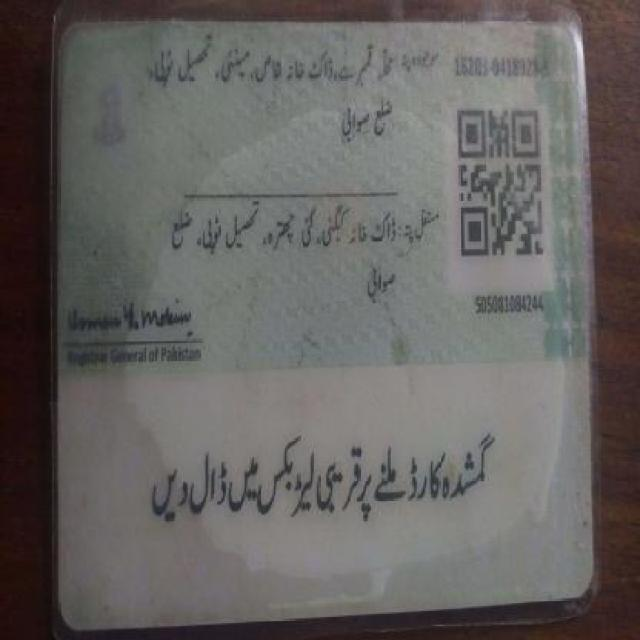Back: (41, 4, 617, 622)
